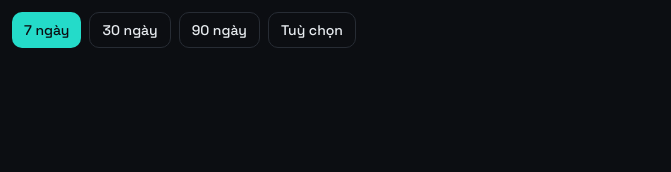
AnalyticsDateRangePicker › shows custom date inputs when 'Tuỳ chọn' is clicked
The width and height of the screenshot is (671, 172).
What coordinates should you click on to do the following:
click the button "Tuỳ chọn"
I would click on:
 (312, 30)
Its box is [268, 12, 356, 48].
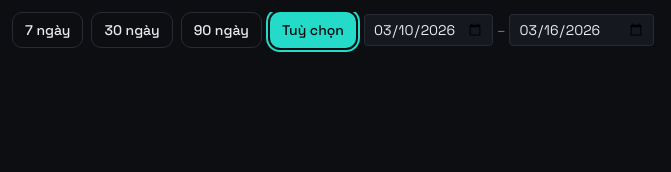
expect the date field named "Ngày bắt đầu" is shown: met, box [364, 14, 493, 46]
expect the date field named "Ngày kết thúc" is shown: met, box [510, 14, 654, 46]
